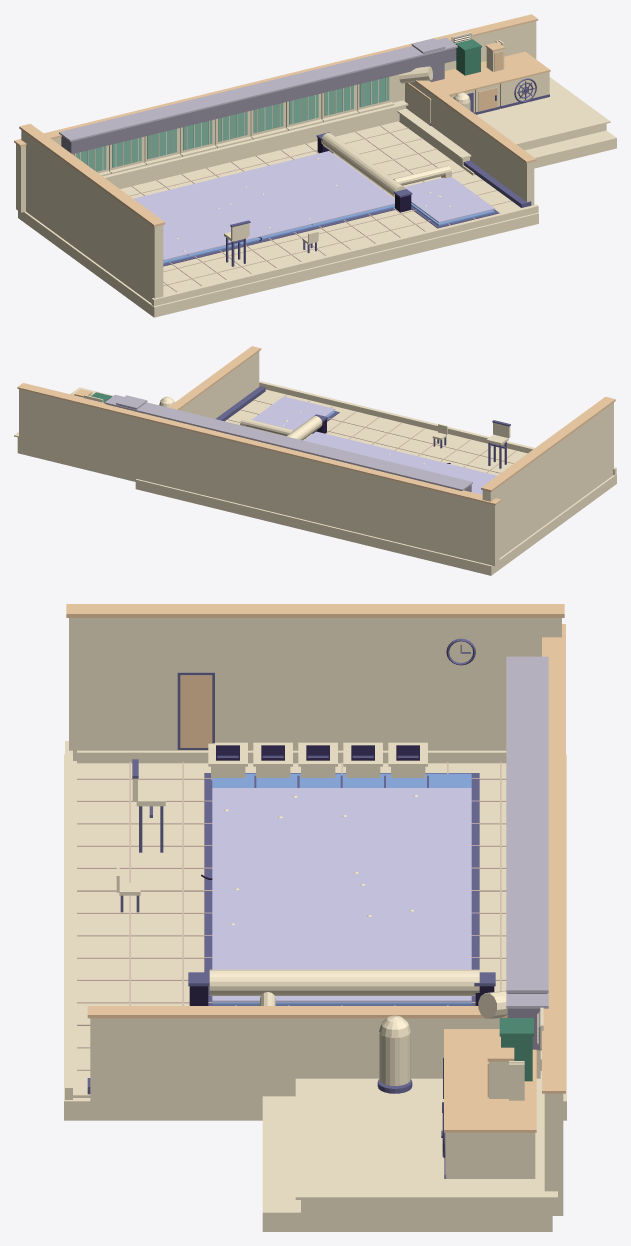
The model's file is piscine.glb.
The picture shows the model from 3 angles, top to bottom: view 1: azimuth 30°, elevation 25°; view 2: azimuth 150°, elevation 25°; view 3: azimuth 270°, elevation 25°; orthographic projection. The views are drawn at different scales.
Parts seen in each view (by area): view 1: piscine_cream, anim_cover_c, piscine_peach, piscine_vitre_vert, piscine_gris_f, piscine_gris_c, piscine_steel, anim_cover_p, piscine_joint, piscine_eau, piscine_vert; view 2: piscine_cream, piscine_peach, piscine_gris_c, anim_cover_c, anim_cover_p, piscine_steel, piscine_joint; view 3: piscine_cream, anim_cover_c, piscine_peach, piscine_gris_c, piscine_steel, piscine_joint, piscine_eau, piscine_dark, piscine_vert.
Part boxes in pixels (<box>): piscine_cream: <box>16,21,616,317</box>; anim_cover_c: <box>133,151,394,260</box>; piscine_peach: <box>14,14,550,226</box>; piscine_vitre_vert: <box>76,77,389,171</box>; piscine_gris_f: <box>61,34,471,154</box>; piscine_gris_c: <box>59,37,457,141</box>; piscine_steel: <box>163,78,549,266</box>; anim_cover_p: <box>404,177,494,222</box>; piscine_joint: <box>129,125,511,291</box>; piscine_eau: <box>163,203,494,263</box>; piscine_vert: <box>455,39,481,75</box>; piscine_cream: <box>14,351,616,575</box>; piscine_peach: <box>17,346,615,505</box>; piscine_gris_c: <box>104,394,472,490</box>; anim_cover_c: <box>304,431,496,494</box>; anim_cover_p: <box>252,396,335,430</box>; piscine_steel: <box>216,386,510,468</box>; piscine_joint: <box>227,395,516,473</box>; piscine_cream: <box>64,618,566,1231</box>; anim_cover_c: <box>212,788,471,1002</box>; piscine_peach: <box>66,604,565,1132</box>; piscine_gris_c: <box>506,656,548,1008</box>; piscine_steel: <box>87,638,495,1178</box>; piscine_joint: <box>77,762,506,1070</box>; piscine_eau: <box>212,773,471,1005</box>; piscine_dark: <box>189,745,494,1005</box>; piscine_vert: <box>499,1018,533,1081</box>.
Bounding box in the file's own units: 4.22 × 0.708 × 1.9.
